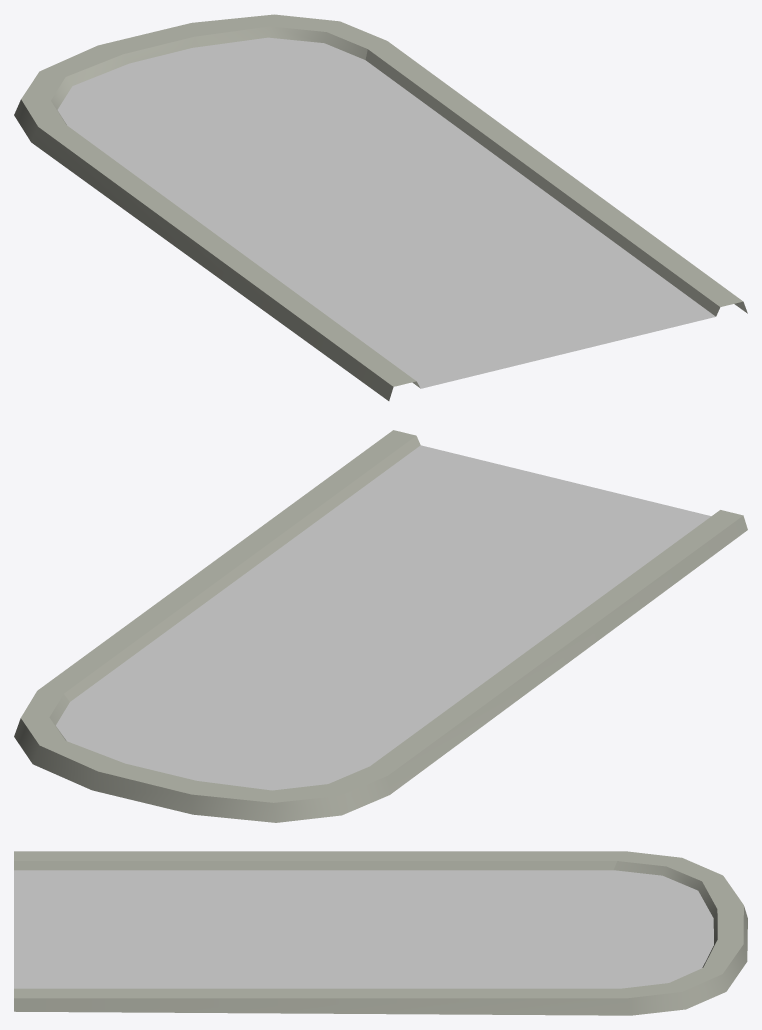
File: ParkRoad_6_D.fbx
The picture shows the model from 3 angles, top to bottom: view 1: azimuth 30°, elevation 25°; view 2: azimuth 150°, elevation 25°; view 3: azimuth 270°, elevation 25°; orthographic projection. The views are drawn at different scales.
Visible parts, largest first — view 1: ParkRoad_6_D; view 2: ParkRoad_6_D; view 3: ParkRoad_6_D.
Part boxes in pixels (x1=…): ParkRoad_6_D: x1=14, y1=14, x2=747, y2=400; ParkRoad_6_D: x1=14, y1=430, x2=747, y2=822; ParkRoad_6_D: x1=14, y1=851, x2=747, y2=1015.
Size of the model in its own units: 200 by 9.78 by 411.
